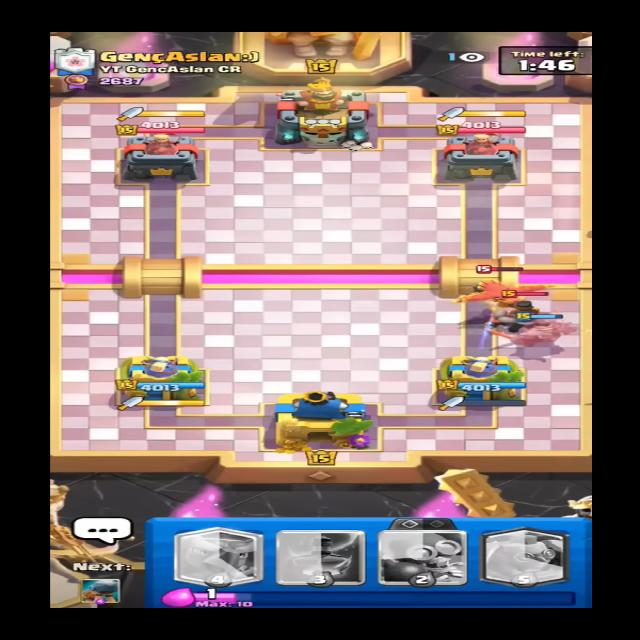phoenix: (451, 260, 553, 308)
ram-rider: (485, 291, 547, 337)
